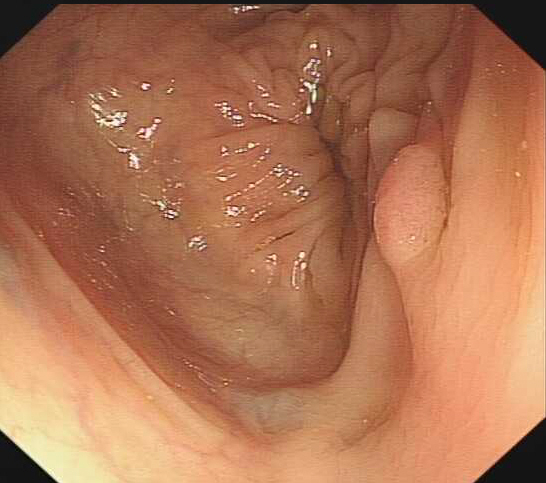adenoma: (369, 139, 448, 273)
